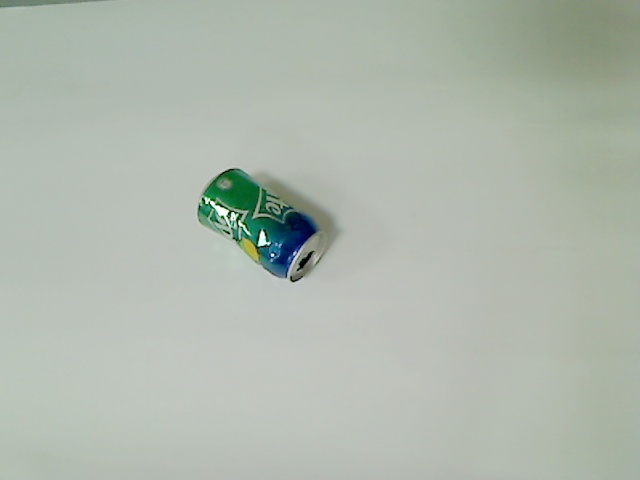can: (195, 166, 330, 285)
